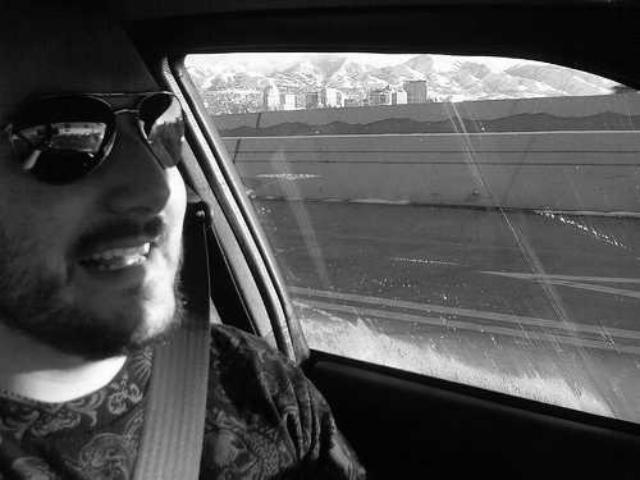Seatbelt: (127, 186, 217, 480)
